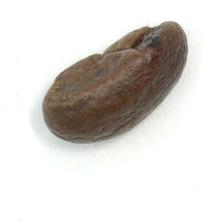NG: (93, 20, 172, 62)
